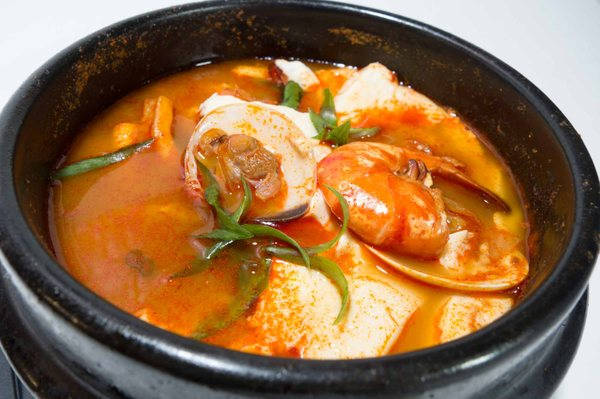sushi: (2, 12, 501, 394)
